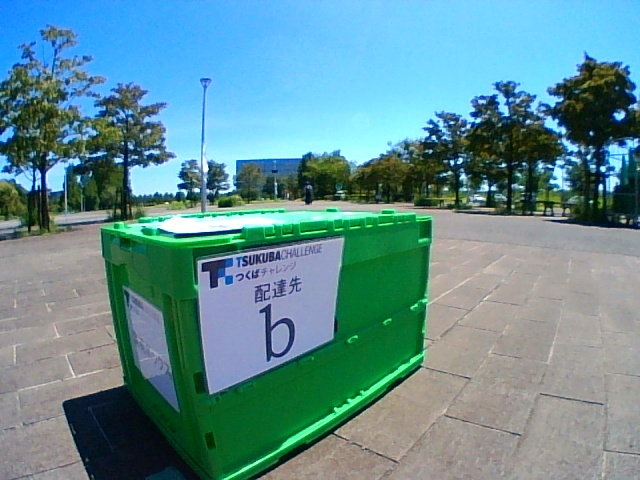green_box: (102, 208, 431, 480)
tag_b: (249, 264, 295, 364)
